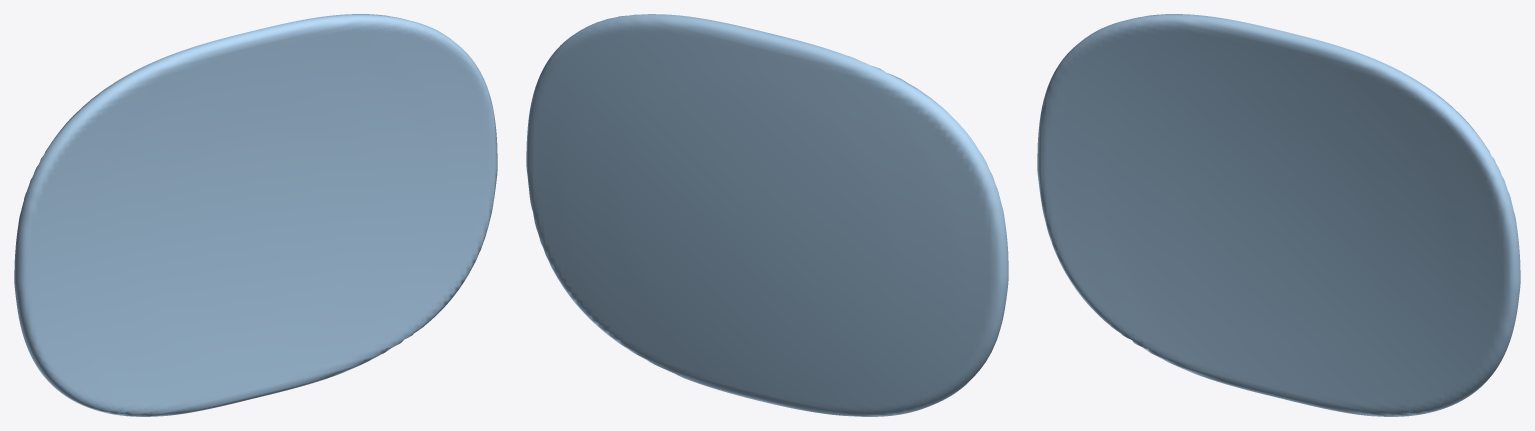
The model's file is 006_right_clear_prescription_lens.glb.
3 views of the same model, side by side, from view 1: azimuth 30°, elevation 25°; view 2: azimuth 150°, elevation 25°; view 3: azimuth 330°, elevation 25° (orthographic).
Visible parts, largest first — view 1: 006 | Right Clear Prescription Lens; view 2: 006 | Right Clear Prescription Lens; view 3: 006 | Right Clear Prescription Lens.
Boxes of the visible parts, left/top/right/bottom form: 006 | Right Clear Prescription Lens: left=14, top=14, right=497, bottom=416; 006 | Right Clear Prescription Lens: left=526, top=14, right=1008, bottom=416; 006 | Right Clear Prescription Lens: left=1037, top=14, right=1520, bottom=416.
Bounding box in the file's own units: 0.0518 × 0.0378 × 0.00344.
